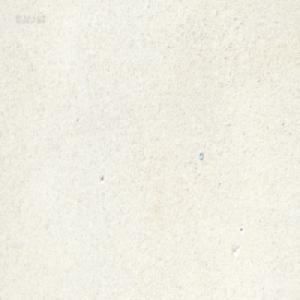Washer: (198, 151, 203, 161)
